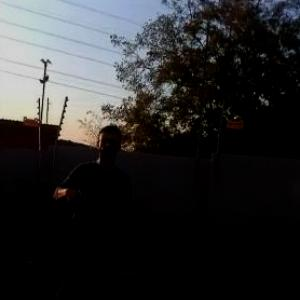follow: (40, 114, 137, 299)
